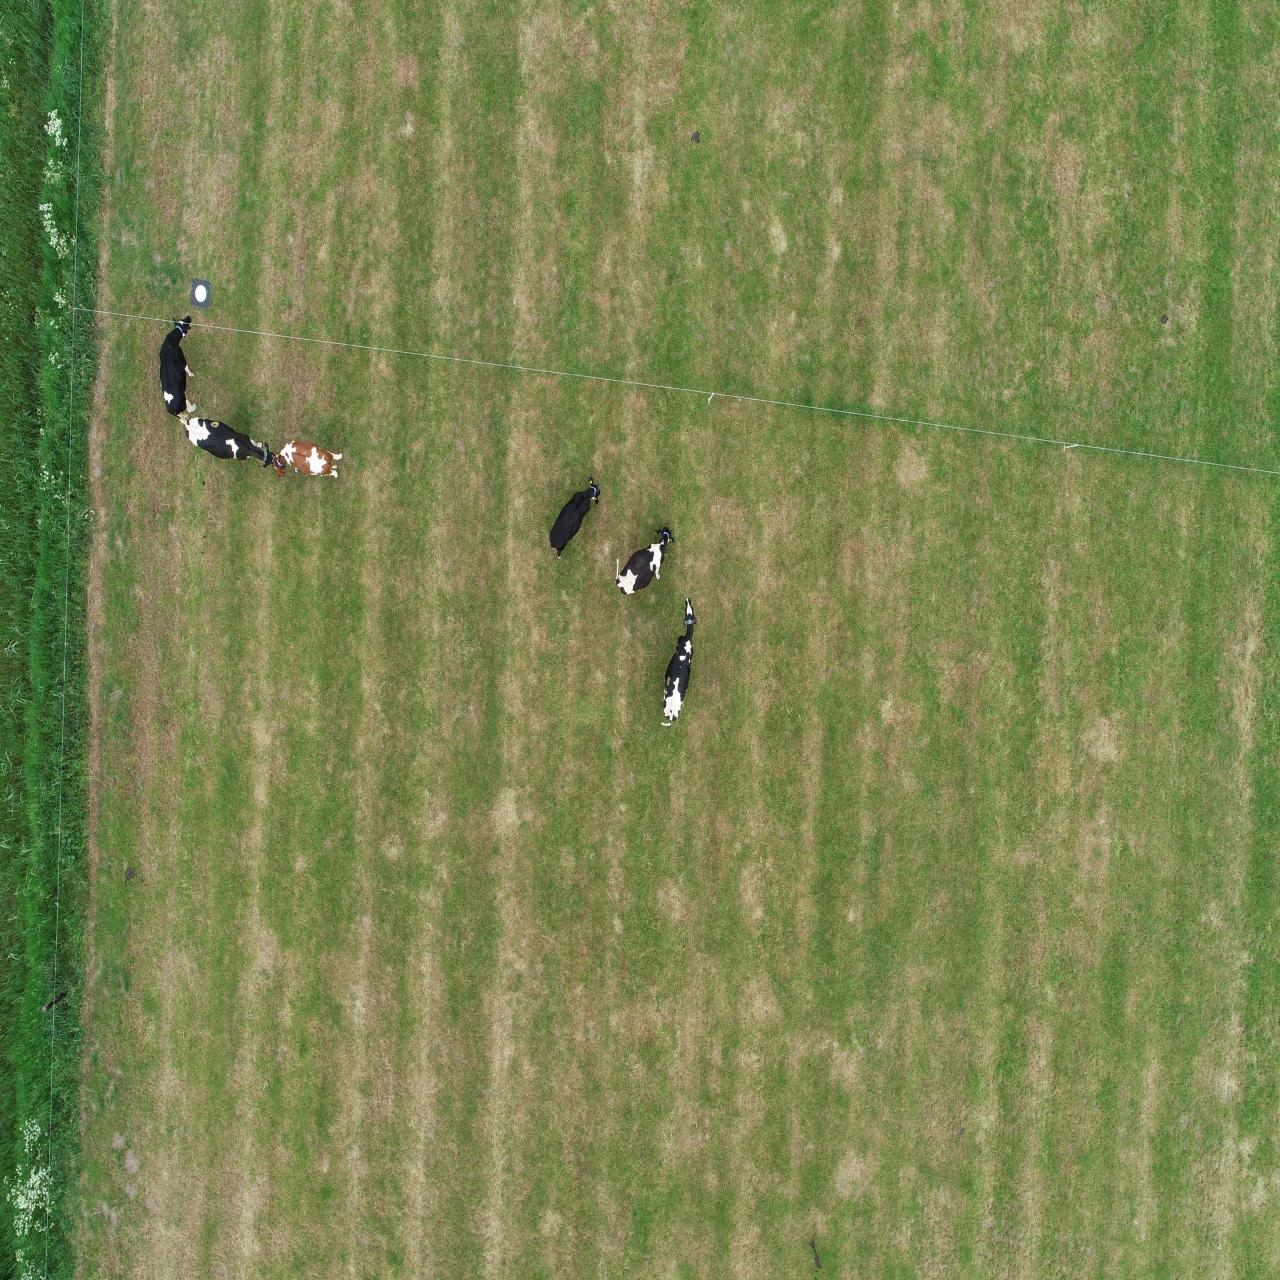cow: (472, 97, 502, 155), (592, 52, 614, 125)
